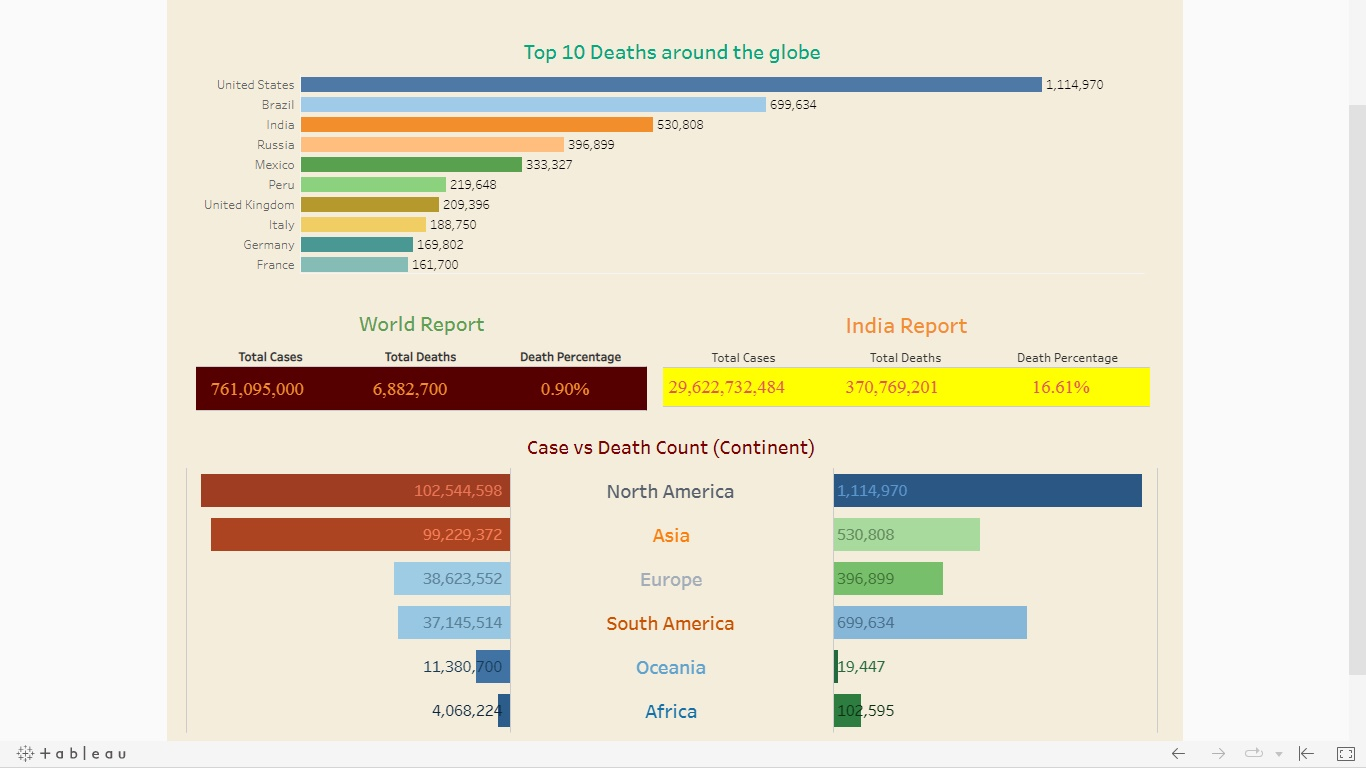

What the dashboard file says about the page in this screenshot:
{"tool":"tableau","page":{"name":"Dashboard 1","canvas":[1000,800],"ordinal":0},"visuals":[{"type":"worksheet","title":"Death Count","mark":"Automatic","rows":["Location"],"cols":["TotalDeathCount"],"box":[25,22,945,266]},{"type":"worksheet","title":"India","mark":"Automatic","box":[577,294,401,120]},{"type":"worksheet","title":"World","mark":"Automatic","box":[100,297,366,122]},{"type":"worksheet","title":"Case vs Death Count","mark":"Automatic","rows":["Continent"],"cols":["TotalCaseCount","Calculation_1441714843042181120","TotalDeathCount"],"box":[11,417,972,307]}]}

Visuals, with their boxes on the page's 1000x800 design canvas (x1, y1, x2, y2). These are canvas units, not pixel positions in the 1366x768 screenshot, which may show the page scaled, cropped or inside an application window:
"Death Count" worksheet: BBox(25, 22, 970, 288)
"India" worksheet: BBox(577, 294, 978, 414)
"World" worksheet: BBox(100, 297, 466, 419)
"Case vs Death Count" worksheet: BBox(11, 417, 983, 724)
